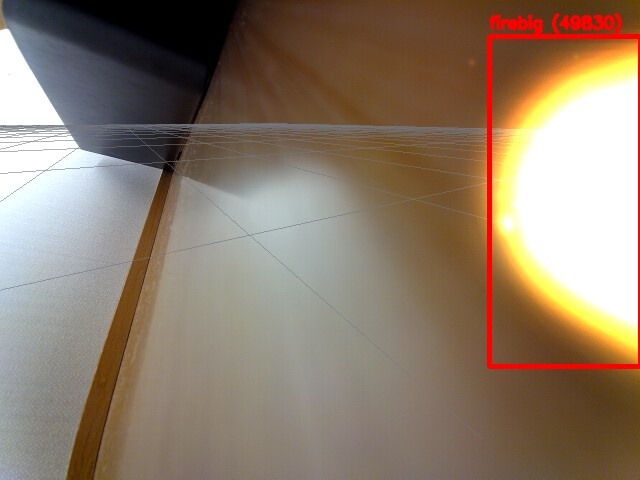firebig: (489, 36, 640, 366)
